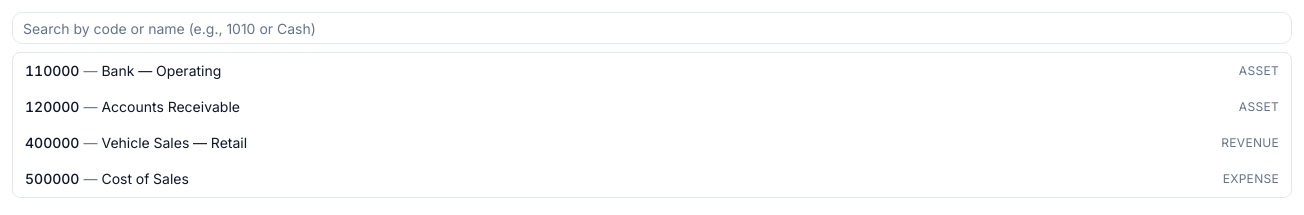
GLAccountPicker › filters by account code
In the search field: (652, 28) [12,12,1292,44], type "110"
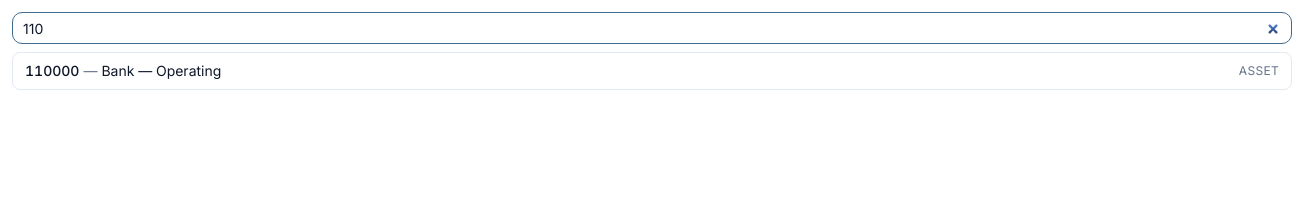
Expected: the button with test id "gl-account-option-110000" is shown, [13,53,1291,89]
Expected: the button with test id "gl-account-option-400000" is gone
